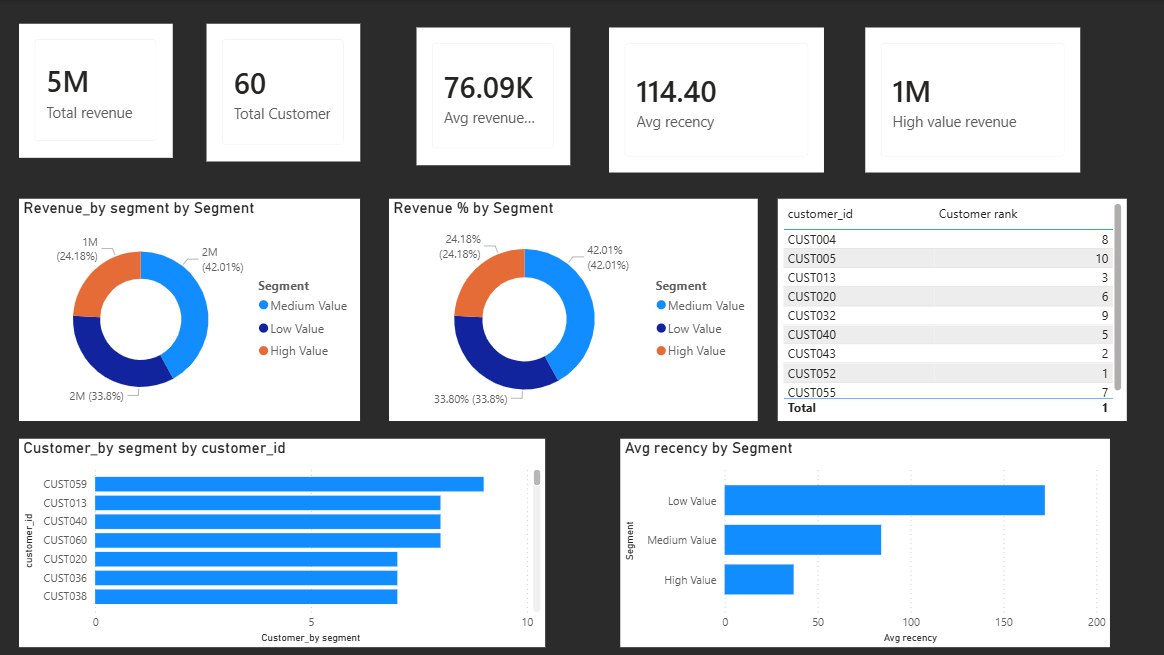

The page's visual inventory and layout, read from the dashboard file:
{"tool":"powerbi","page":{"name":"Page 1","canvas":[1280,720],"ordinal":0},"visuals":[{"type":"cardVisual","fields":{"Data":["Measure.Total revenue"]},"box":[22,26.1,168.8,146.8],"z":0},{"type":"cardVisual","fields":{"Data":["Measure.Total Customer"]},"box":[227.8,26.1,168.8,150.9],"z":1},{"type":"cardVisual","fields":{"Data":["Measure.Avg revenue per customer"]},"box":[458.3,30.2,168.8,150.9],"z":2},{"type":"donutChart","fields":{"Category":["Cust_Seg.Segment"],"Y":["Measure.Revenue_by segment"]},"box":[22,218.2,374.6,244.3],"z":3},{"type":"donutChart","fields":{"Y":["Measure.Revenue %"],"Category":["Cust_Seg.Segment"]},"box":[428.1,218.2,404.8,244.3],"z":4},{"type":"tableEx","fields":{"Values":["Cust_Seg.customer_id","Measure.Customer rank"]},"box":[854.9,218.2,382.8,244.3],"z":5},{"type":"cardVisual","fields":{"Data":["Measure.High value revenue"]},"box":[950.9,30.2,236,159.2],"z":6},{"type":"cardVisual","fields":{"Data":["Cust_Seg.Avg recency"]},"box":[669.6,30.2,236,159.2],"z":7},{"type":"barChart","fields":{"Category":["Cust_Seg.customer_id"],"Y":["Cust_Seg.Customer_by segment"]},"box":[22,481.6,577.7,229.2],"z":8},{"type":"barChart","fields":{"Y":["Cust_Seg.Avg recency"],"Category":["Cust_Seg.Segment"]},"box":[682,481.6,537.9,229.2],"z":9}]}

Visuals, with their boxes in screenshot pixels (x1, y1, x2, y2), scaled from the page's 1280x720 canvas onto the 1164x655 screenshot:
cardVisual - Measure.Total revenue: [x1=20, y1=24, x2=174, y2=157]
cardVisual - Measure.Total Customer: [x1=207, y1=24, x2=361, y2=161]
cardVisual - Measure.Avg revenue per customer: [x1=417, y1=27, x2=570, y2=165]
donutChart - Cust_Seg.Segment x Measure.Revenue_by segment: [x1=20, y1=199, x2=361, y2=421]
donutChart - Measure.Revenue % x Cust_Seg.Segment: [x1=389, y1=199, x2=757, y2=421]
tableEx - Cust_Seg.customer_id x Measure.Customer rank: [x1=777, y1=199, x2=1126, y2=421]
cardVisual - Measure.High value revenue: [x1=865, y1=27, x2=1079, y2=172]
cardVisual - Cust_Seg.Avg recency: [x1=609, y1=27, x2=824, y2=172]
barChart - Cust_Seg.customer_id x Cust_Seg.Customer_by segment: [x1=20, y1=438, x2=545, y2=647]
barChart - Cust_Seg.Avg recency x Cust_Seg.Segment: [x1=620, y1=438, x2=1109, y2=647]
